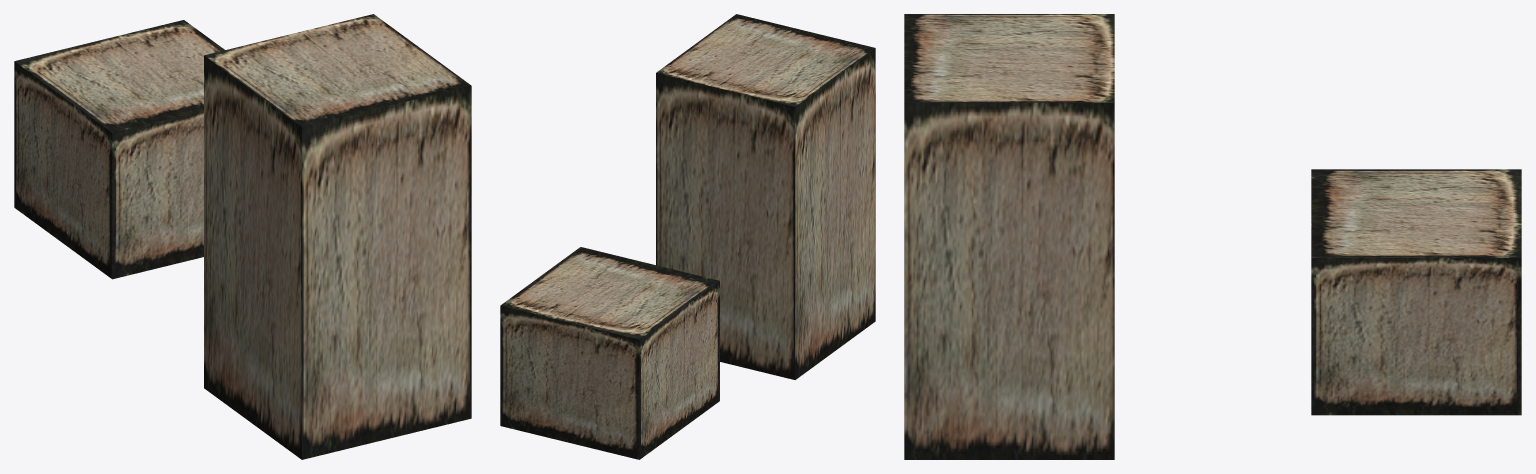
The model's file is env_anim_bricks.glb.
3 views of the same model, side by side, from view 1: azimuth 30°, elevation 25°; view 2: azimuth 150°, elevation 25°; view 3: azimuth 270°, elevation 25° (orthographic). The views are drawn at different scales.
Parts seen in each view (by area): view 1: LargeBrick, SmallBrick; view 2: LargeBrick, SmallBrick; view 3: LargeBrick, SmallBrick.
Part boxes in pixels (<box>): LargeBrick: <box>204,14,471,459</box>; SmallBrick: <box>14,20,224,279</box>; LargeBrick: <box>656,14,875,379</box>; SmallBrick: <box>500,247,719,459</box>; LargeBrick: <box>904,14,1114,459</box>; SmallBrick: <box>1311,169,1521,415</box>.
Size of the model in its own units: 0.4 by 0.75 by 1.17.
1 material, 1 textured.
